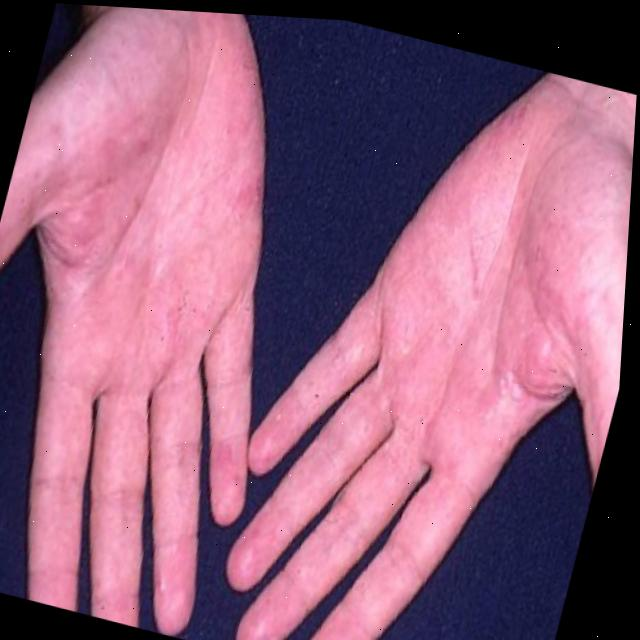Eczema: (312, 68, 631, 525), (0, 11, 261, 362)
